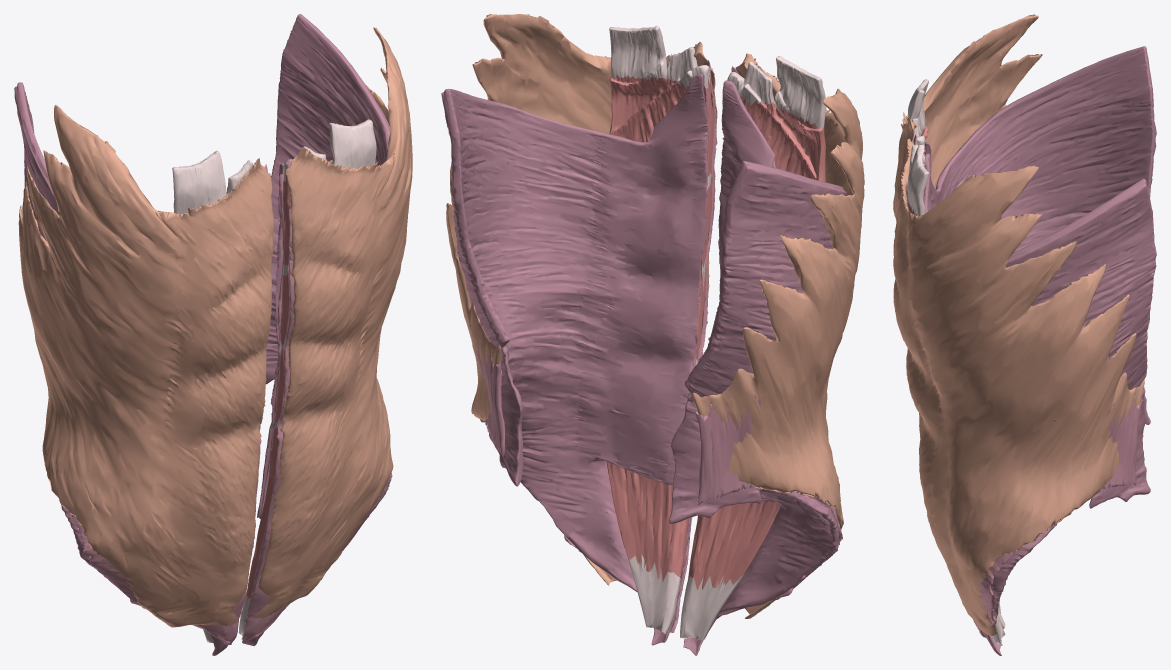
The model's file is original.glb.
The picture shows the model from 3 angles, left to right: view 1: azimuth 30°, elevation 25°; view 2: azimuth 150°, elevation 25°; view 3: azimuth 270°, elevation 25°; orthographic projection. The views are drawn at different scales.
Parts seen in each view (by area): view 1: external_r, external_l, transversus_l, rectus_l, internal_l, rectus_r, transversus_r, internal_r; view 2: transversus_l, transversus_r, external_r, rectus_l, rectus_r, external_l, internal_r, internal_l; view 3: external_l, transversus_r, transversus_l, external_r, internal_l, rectus_l, rectus_r.
Boxes of the visible parts, x1,y1,x2,y2 form: external_r: (18, 105, 273, 627); external_l: (254, 27, 412, 618); transversus_l: (242, 14, 390, 646); rectus_l: (238, 119, 376, 636); internal_l: (241, 158, 392, 640); rectus_r: (172, 150, 252, 642); transversus_r: (14, 82, 227, 655); internal_r: (48, 164, 274, 645); transversus_l: (441, 74, 707, 645); transversus_r: (669, 80, 846, 655); external_r: (691, 53, 864, 618); rectus_l: (606, 25, 713, 635); rectus_r: (680, 56, 825, 640); external_l: (446, 14, 717, 585); internal_r: (695, 66, 842, 619); internal_l: (469, 60, 717, 632); external_l: (893, 138, 1144, 635); transversus_r: (924, 46, 1156, 424); transversus_l: (923, 153, 1156, 655); external_r: (893, 14, 1042, 438); internal_l: (923, 167, 1142, 637); rectus_l: (906, 144, 1005, 643); rectus_r: (907, 79, 1005, 628).
Size of the model in its own units: 0.282 by 0.4392 by 0.1886.
